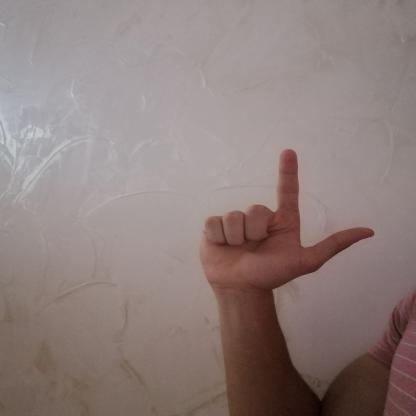LAAM: (179, 140, 389, 305)
